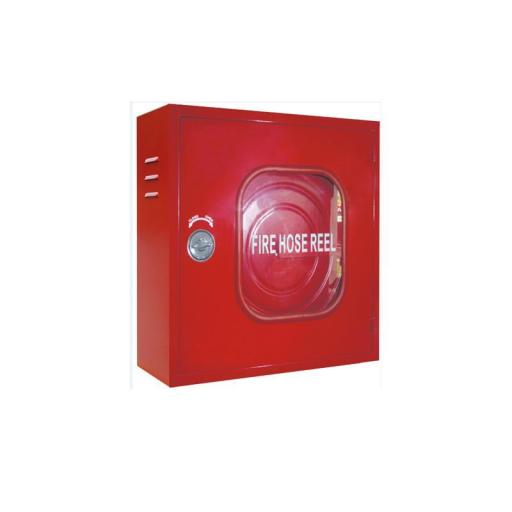fire_hose: (130, 98, 388, 387)
